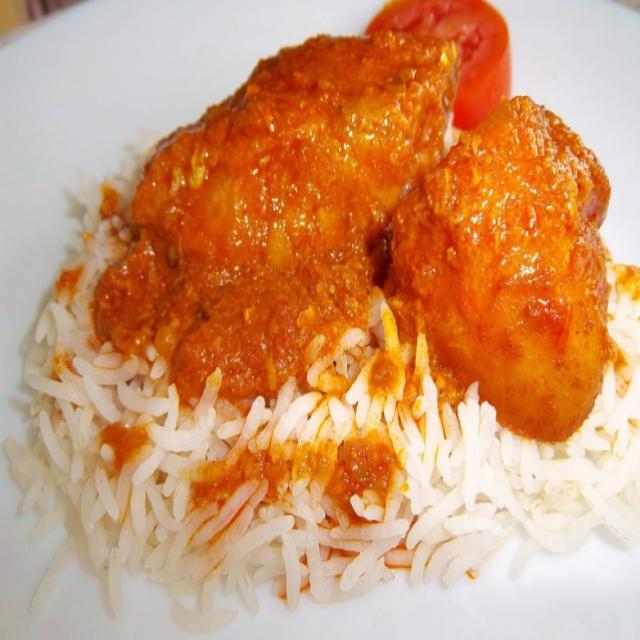FISH CURRY: (31, 35, 639, 605)
